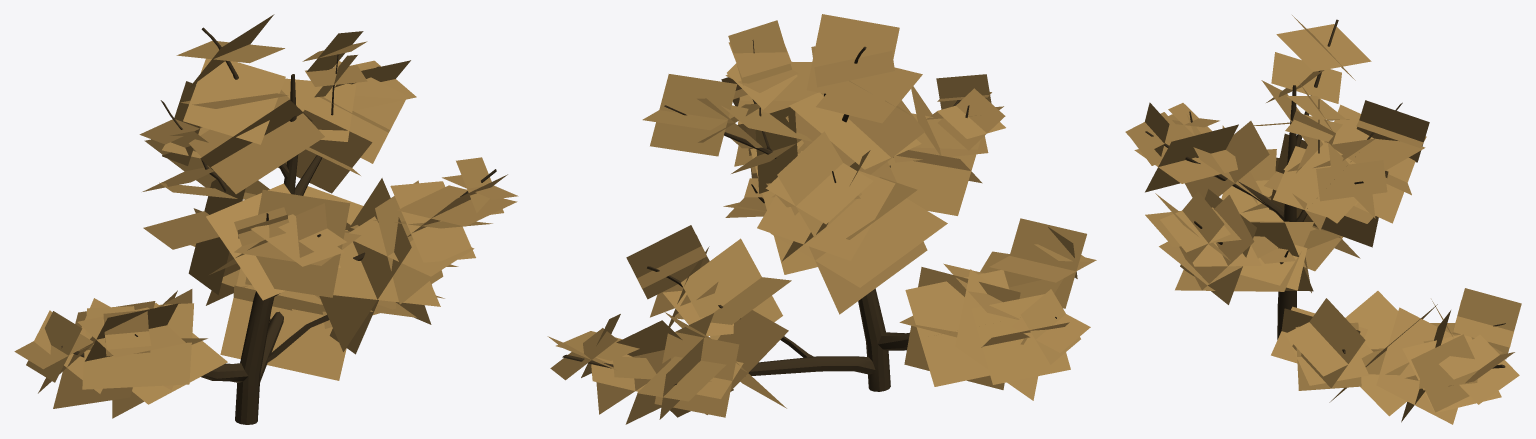
The model's file is Bush 1 LOD 0.fbx.
The picture shows the model from 3 angles, left to right: view 1: azimuth 30°, elevation 25°; view 2: azimuth 150°, elevation 25°; view 3: azimuth 270°, elevation 25°; orthographic projection. The views are drawn at different scales.
Parts seen in each view (by area): view 1: Bush_1_LOD_0; view 2: Bush_1_LOD_0; view 3: Bush_1_LOD_0.
Part boxes in pixels (<box>): Bush_1_LOD_0: <box>14,14,518,424</box>; Bush_1_LOD_0: <box>547,14,1096,424</box>; Bush_1_LOD_0: <box>1125,15,1521,424</box>.
Size of the model in its own units: 5.14 by 4.45 by 4.62.
